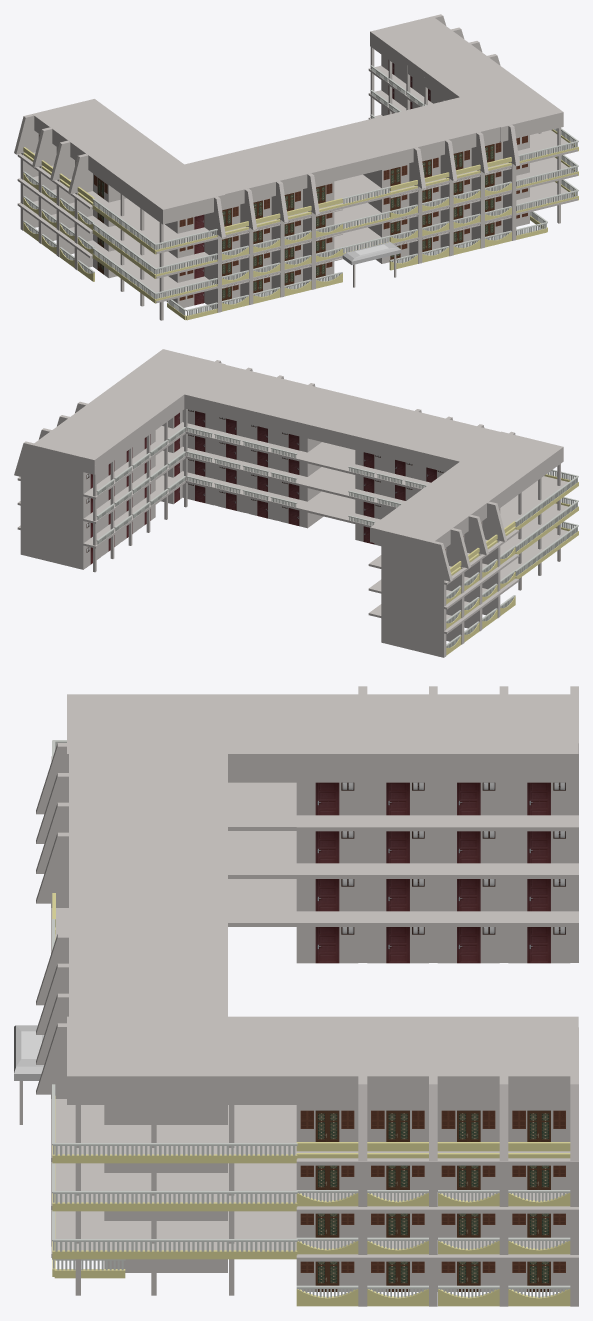
Rendered from ky tuc B5.fbx.
3 views of the same model, one above another, from view 1: azimuth 30°, elevation 25°; view 2: azimuth 150°, elevation 25°; view 3: azimuth 270°, elevation 25° (orthographic). The views are drawn at different scales.
Parts seen in each view (by area): view 1: Plane.021; view 2: Plane.021; view 3: Plane.021.
Part boxes in pixels (x1,y1,x2,y2): Plane.021: (14, 14, 578, 320); Plane.021: (14, 349, 578, 657); Plane.021: (14, 686, 578, 1306).
Size of the model in its own units: 11163 by 2753 by 6403.
